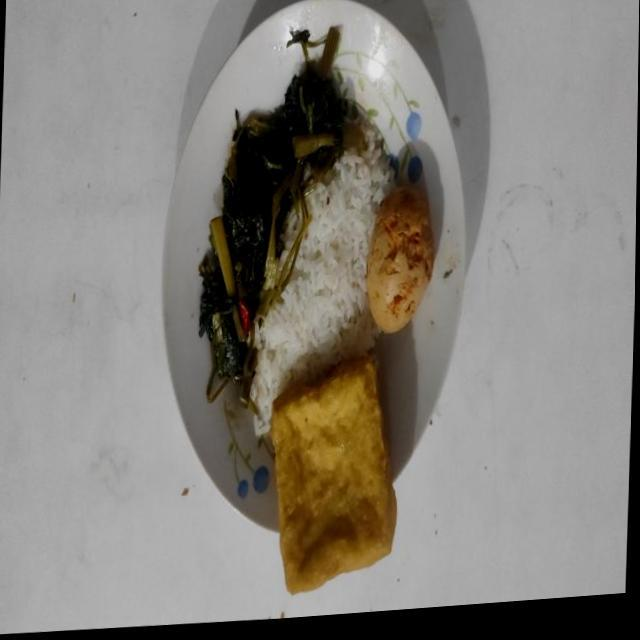nasi_putih: (250, 124, 392, 436)
tahu_goreng: (270, 356, 396, 594)
tumis_kangkung: (198, 26, 366, 415)
